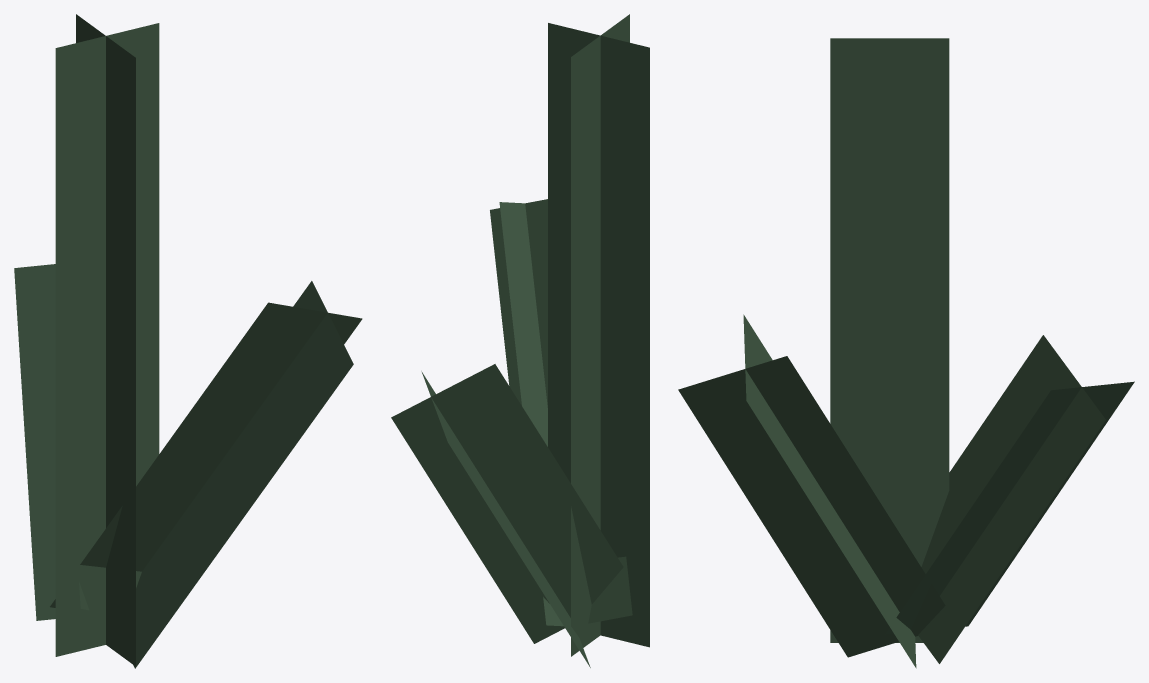
The model's file is MarshGrass3.fbx.
3 views of the same model, side by side, from view 1: azimuth 30°, elevation 25°; view 2: azimuth 150°, elevation 25°; view 3: azimuth 270°, elevation 25° (orthographic).
Parts seen in each view (by area): view 1: Grass3; view 2: Grass3; view 3: Grass3.
Part boxes in pixels (<box>): Grass3: <box>14,14,362,668</box>; Grass3: <box>391,14,649,667</box>; Grass3: <box>678,38,1134,668</box>.
Size of the model in its own units: 0.9129 by 2.3 by 1.55.
